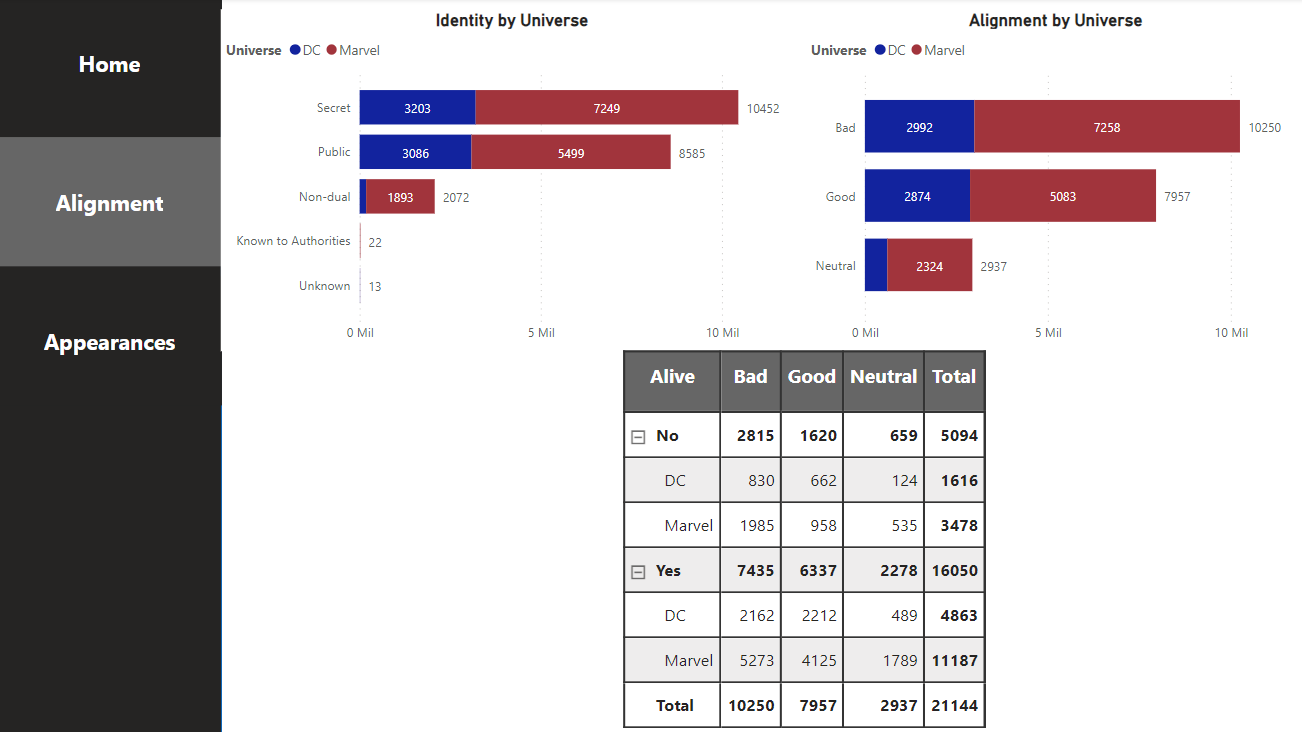

Layout of this report page (visuals, bound fields, positions):
{"tool":"powerbi","page":{"name":"Alignment","canvas":[1280,720],"ordinal":1},"visuals":[{"type":"barChart","title":"Alignment by Universe","fields":{"Category":["comic_characters.Alignment"],"Series":["comic_characters.Universe"],"Y":["CountNonNull(comic_characters.Id)"]},"box":[791.5,10.5,489,335],"z":0},{"type":"shape","box":[0,0,220,719.4],"z":1000},{"type":"pageNavigator","box":[0,0,220,400],"z":2000},{"type":"barChart","title":"Identity by Universe","fields":{"Category":["comic_characters.Identity"],"Series":["comic_characters.Universe"],"Y":["CountNonNull(comic_characters.Id)"]},"box":[218.8,11.1,569.9,334.4],"z":3000},{"type":"pivotTable","fields":{"Rows":["comic_characters.Alive","comic_characters.Universe"],"Columns":["comic_characters.Alignment"],"Values":["CountNonNull(comic_characters.Id)"]},"box":[607.5,340,366.5,379],"z":9001}]}

Visuals, with their boxes on the page's 1280x720 design canvas (x1, y1, x2, y2). These are canvas units, not pixel positions in the 1302x732 screenshot, which may show the page scaled, cropped or inside an application window:
"Alignment by Universe" barChart: bbox=[792, 10, 1280, 346]
shape: bbox=[0, 0, 220, 719]
pageNavigator: bbox=[0, 0, 220, 400]
"Identity by Universe" barChart: bbox=[219, 11, 789, 346]
pivotTable - comic_characters.Alive x comic_characters.Universe: bbox=[608, 340, 974, 719]
